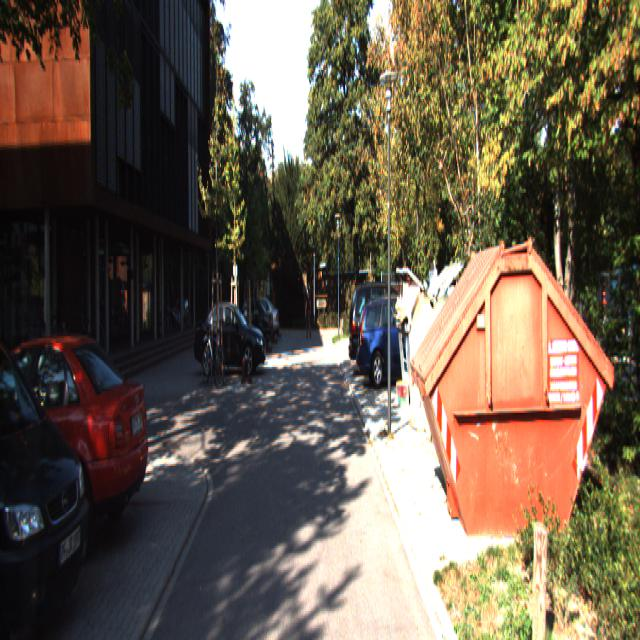Car: (0, 325, 152, 560), (0, 282, 97, 638), (356, 293, 440, 390), (348, 279, 422, 376), (195, 300, 268, 376), (222, 298, 272, 352), (239, 298, 280, 342)
